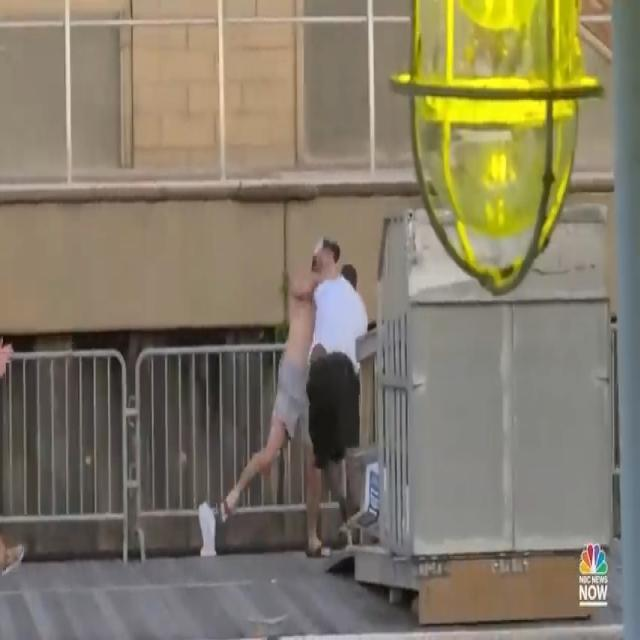fight: (196, 230, 372, 565)
